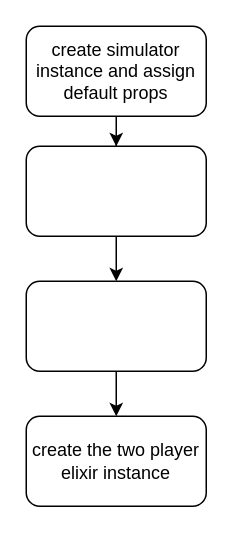
Some shapes in this 233 by 533 pixel diagram are drawn without their labels. Each missing label, with the box of its shape:
create nano timer instance: (25, 280, 206, 371)
set timer step and simulation defaults: (25, 145, 206, 236)
